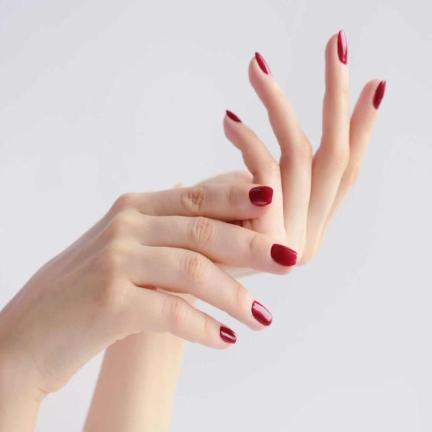Nail: (270, 244, 298, 266), (251, 300, 273, 326), (249, 186, 274, 207), (372, 80, 386, 110), (255, 51, 272, 75), (337, 29, 348, 65), (219, 326, 237, 344), (225, 110, 242, 123)
